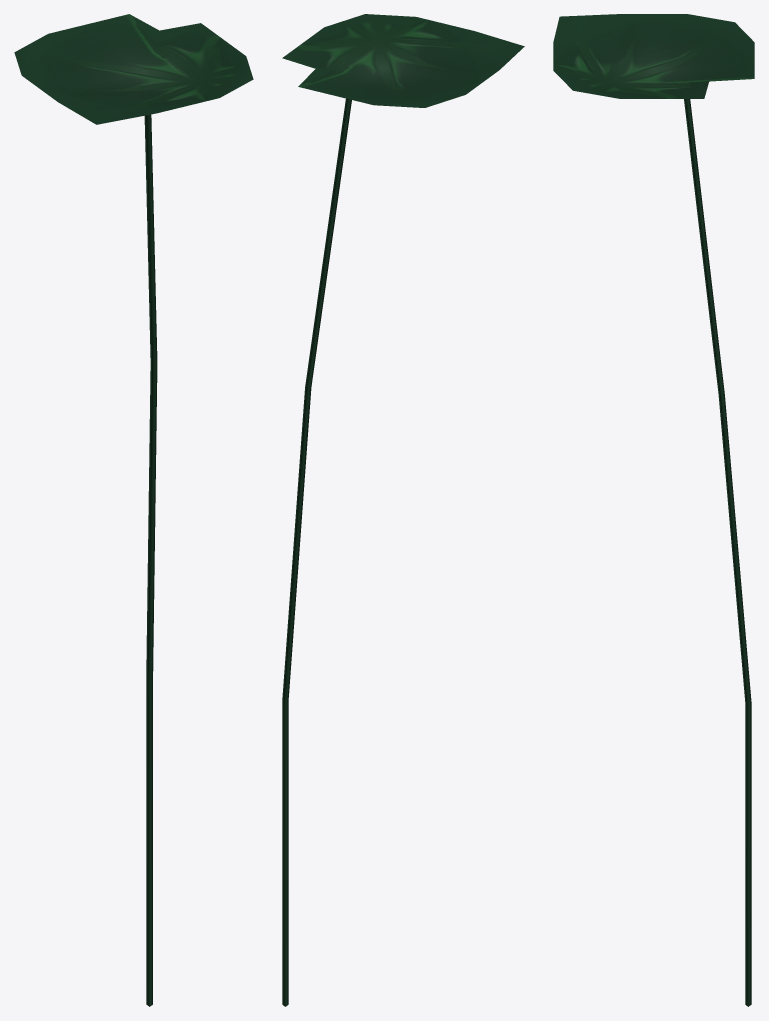
Rendered from waterlily2.obj.
3 renders of one model, left to right at view 1: azimuth 30°, elevation 25°; view 2: azimuth 150°, elevation 25°; view 3: azimuth 270°, elevation 25°, orthographic. The views are drawn at different scales.
Parts seen in each view (by area): view 1: Plane001, Cylinder001; view 2: Plane001, Cylinder001; view 3: Plane001, Cylinder001.
Boxes of the visible parts, x1,y1,x2,y2 form: Plane001: [14, 14, 253, 124]; Cylinder001: [144, 114, 157, 1006]; Plane001: [282, 14, 524, 107]; Cylinder001: [282, 98, 351, 1006]; Plane001: [553, 14, 754, 98]; Cylinder001: [684, 99, 751, 1006].
Bounding box in the file's own units: 48.87 × 246 × 48.87.
